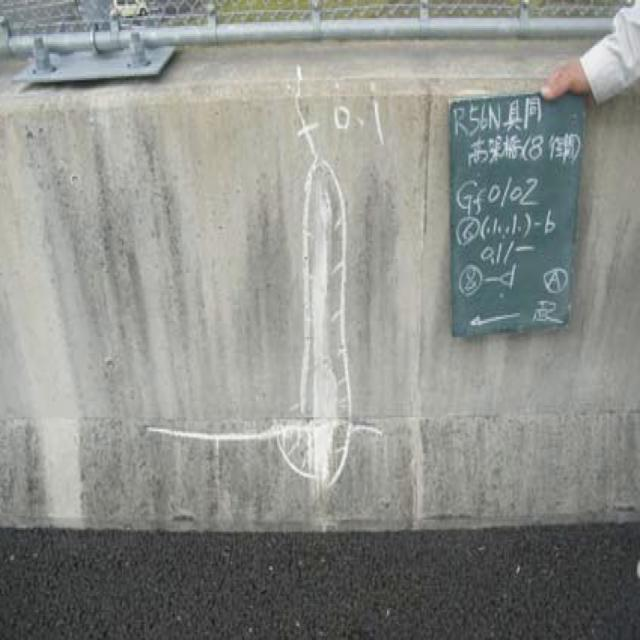freelime: (294, 190, 354, 501)
